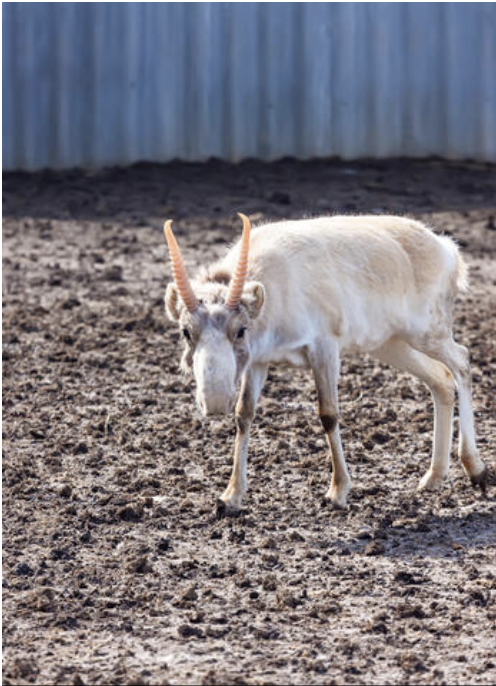saiga: (146, 193, 496, 519)
